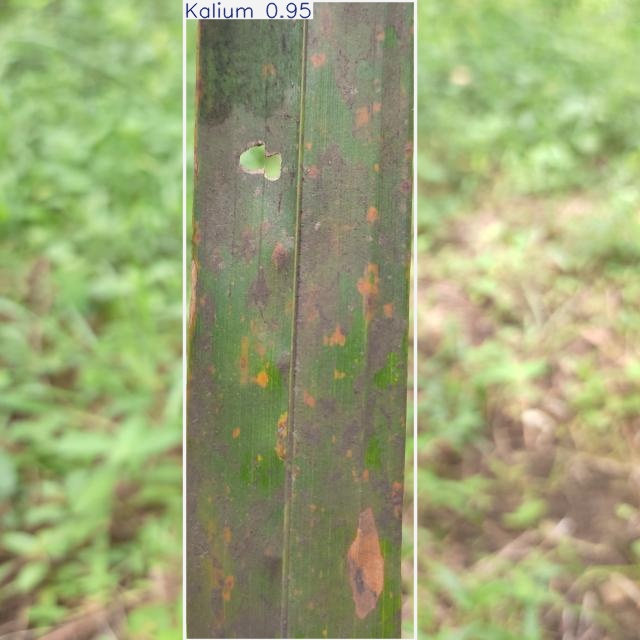Kalium: (184, 0, 416, 640)
